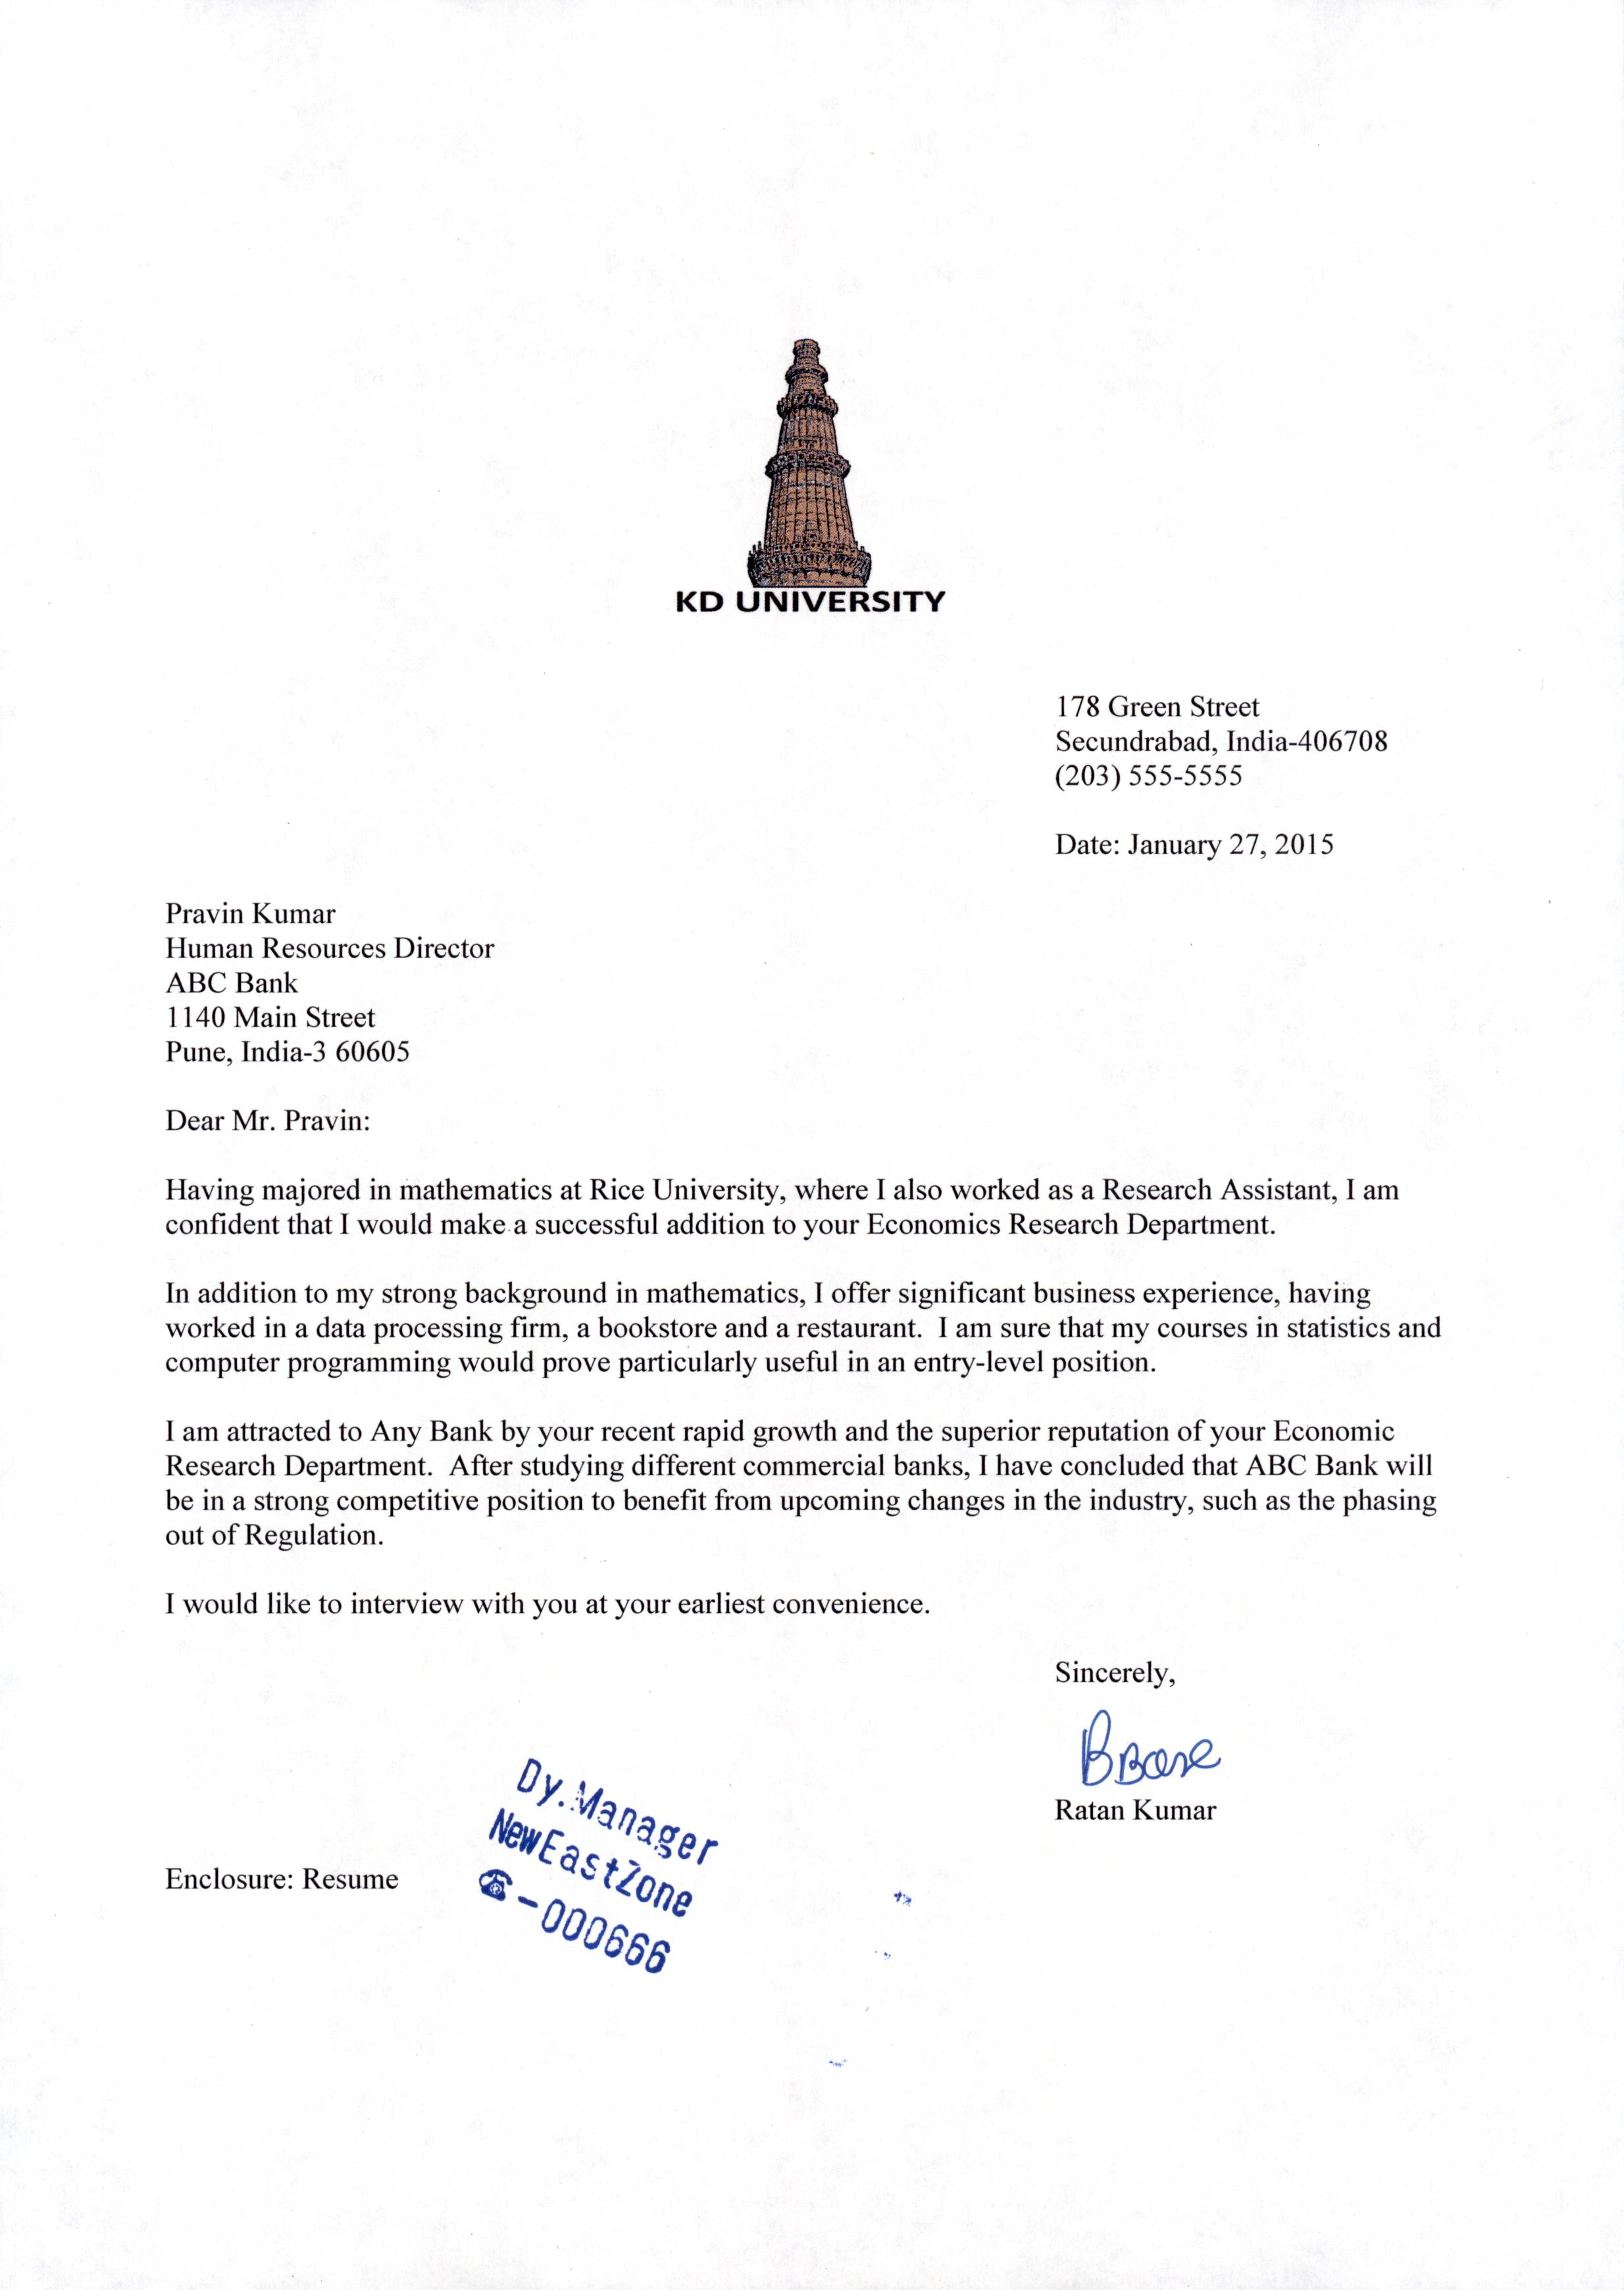Signature: (1072, 1701, 1236, 1794)
